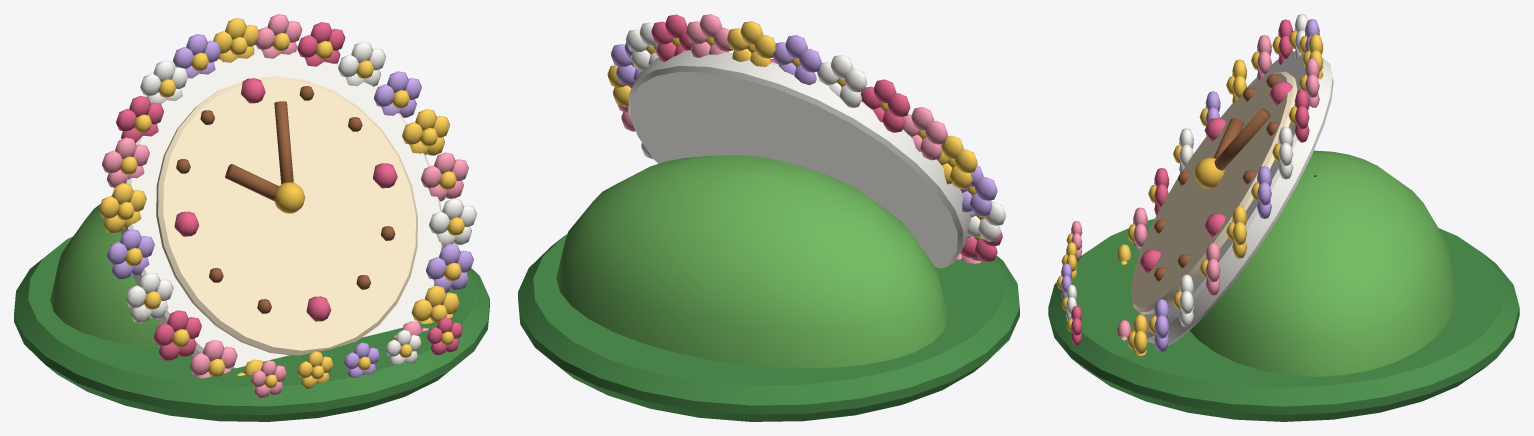
File: flower_clock.fbx
3 renders of one model, left to right at view 1: azimuth 30°, elevation 25°; view 2: azimuth 150°, elevation 25°; view 3: azimuth 270°, elevation 25°, orthographic. The views are drawn at different scales.
Visible parts, largest first — view 1: flower_clock_Cream, flower_clock_GreenDark, flower_clock_White, flower_clock_Yellow, flower_clock_Green, flower_clock_PinkDark, flower_clock_Pink, flower_clock_Lilac, flower_clock_Brown, flower_clock_Gold; view 2: flower_clock_Green, flower_clock_White, flower_clock_GreenDark, flower_clock_Yellow, flower_clock_PinkDark, flower_clock_Lilac, flower_clock_Pink; view 3: flower_clock_Green, flower_clock_GreenDark, flower_clock_Cream, flower_clock_White, flower_clock_Yellow, flower_clock_PinkDark, flower_clock_Pink, flower_clock_Brown, flower_clock_Lilac, flower_clock_Gold.
Part boxes in pixels (bbox=[...]): flower_clock_Cream: bbox=[156, 76, 417, 355]; flower_clock_GreenDark: bbox=[14, 236, 489, 421]; flower_clock_White: bbox=[120, 41, 476, 368]; flower_clock_Yellow: bbox=[98, 18, 464, 388]; flower_clock_Green: bbox=[50, 195, 160, 347]; flower_clock_PinkDark: bbox=[116, 22, 462, 360]; flower_clock_Pink: bbox=[102, 14, 468, 398]; flower_clock_Lilac: bbox=[107, 34, 473, 377]; flower_clock_Brown: bbox=[176, 86, 395, 313]; flower_clock_Gold: bbox=[274, 182, 305, 213]; flower_clock_Green: bbox=[556, 155, 947, 368]; flower_clock_White: bbox=[625, 22, 1006, 268]; flower_clock_GreenDark: bbox=[518, 234, 1019, 421]; flower_clock_Yellow: bbox=[607, 21, 984, 255]; flower_clock_PinkDark: bbox=[651, 14, 1002, 262]; flower_clock_Lilac: bbox=[610, 35, 997, 216]; flower_clock_Pink: bbox=[617, 14, 981, 263]; flower_clock_Green: bbox=[1189, 150, 1456, 376]; flower_clock_GreenDark: bbox=[1048, 218, 1519, 421]; flower_clock_Cream: bbox=[1130, 71, 1297, 314]; flower_clock_White: bbox=[1066, 14, 1333, 345]; flower_clock_Yellow: bbox=[1056, 30, 1323, 355]; flower_clock_PinkDark: bbox=[1071, 19, 1309, 345]; flower_clock_Pink: bbox=[1071, 35, 1319, 340]; flower_clock_Brown: bbox=[1154, 74, 1278, 281]; flower_clock_Lilac: bbox=[1061, 19, 1319, 351]; flower_clock_Gold: bbox=[1194, 157, 1224, 188].
Size of the model in its own units: 30 by 22.07 by 30.
